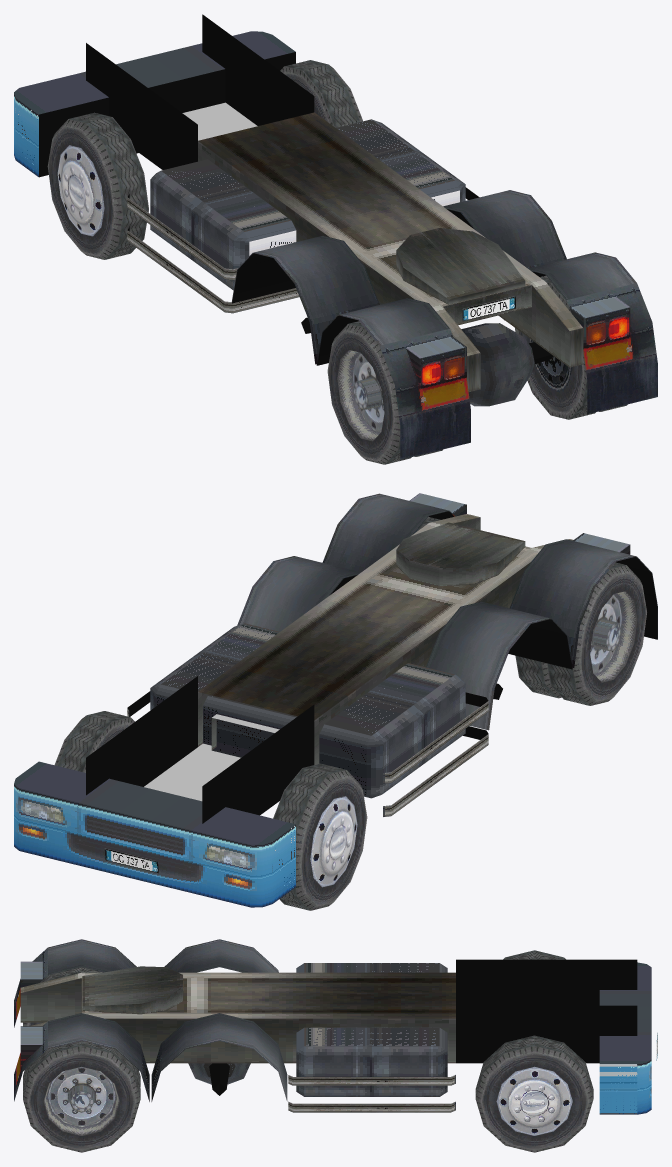
The model's file is othcar-10.glb.
The picture shows the model from 3 angles, top to bottom: view 1: azimuth 30°, elevation 25°; view 2: azimuth 150°, elevation 25°; view 3: azimuth 270°, elevation 25°; orthographic projection. The views are drawn at different scales.
Parts seen in each view (by area): view 1: body, wheel RL, wheel FL, wheel FR, wheel RR; view 2: body, wheel RL, wheel FL, wheel RR; view 3: body, wheel RR, wheel FR, wheel FL, wheel RL.
Part boxes in pixels (x1,y1,x2,y2): body: [14, 14, 657, 459]; wheel RL: [47, 112, 148, 259]; wheel FL: [327, 321, 442, 464]; wheel FR: [515, 275, 627, 419]; wheel RR: [280, 60, 362, 127]; body: [14, 493, 657, 907]; wheel RL: [273, 763, 367, 910]; wheel FL: [515, 562, 646, 705]; wheel RR: [54, 711, 134, 772]; body: [14, 939, 657, 1114]; wheel RR: [475, 1035, 593, 1152]; wheel FR: [23, 1041, 140, 1152]; wheel FL: [23, 967, 103, 1026]; wheel RL: [503, 950, 565, 959].
Bounding box in the file's own units: 2.51 × 1.39 × 6.54.
17 materials, 15 textured.
